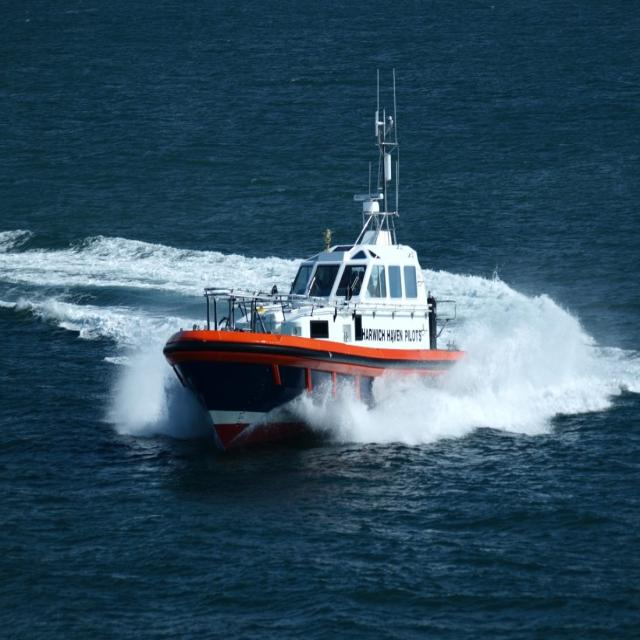houseboat: (161, 105, 463, 444)
